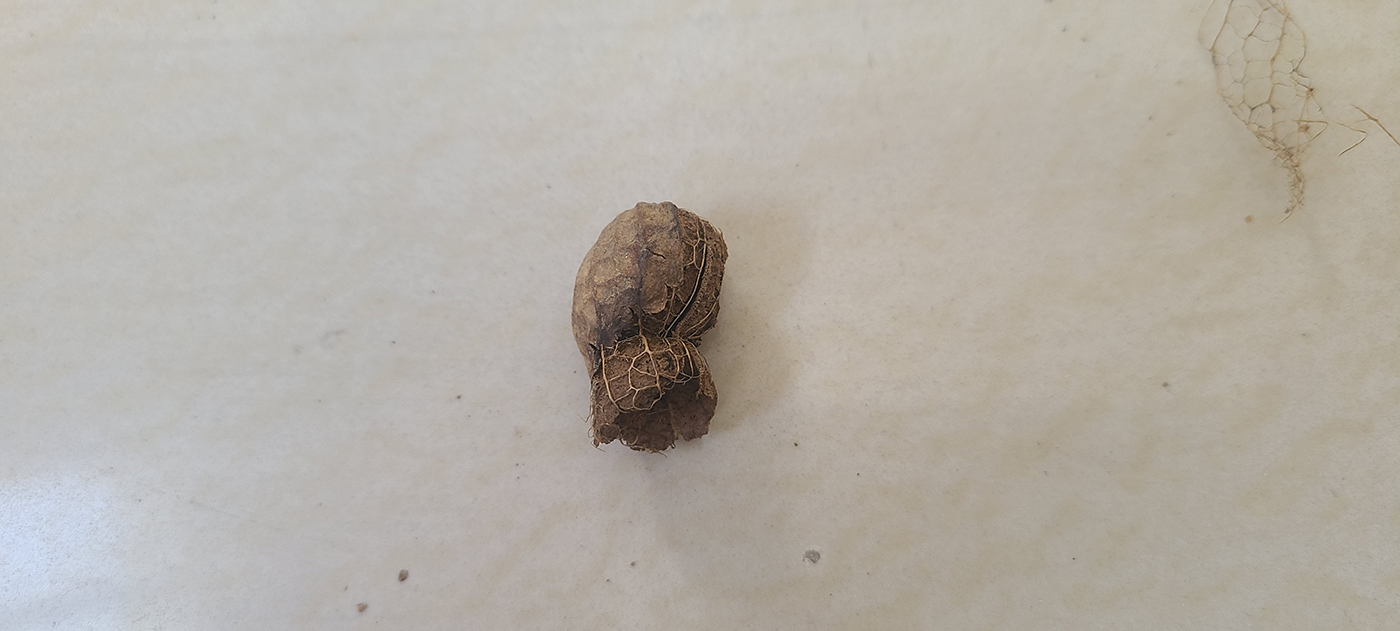l: (572, 202, 731, 454)
